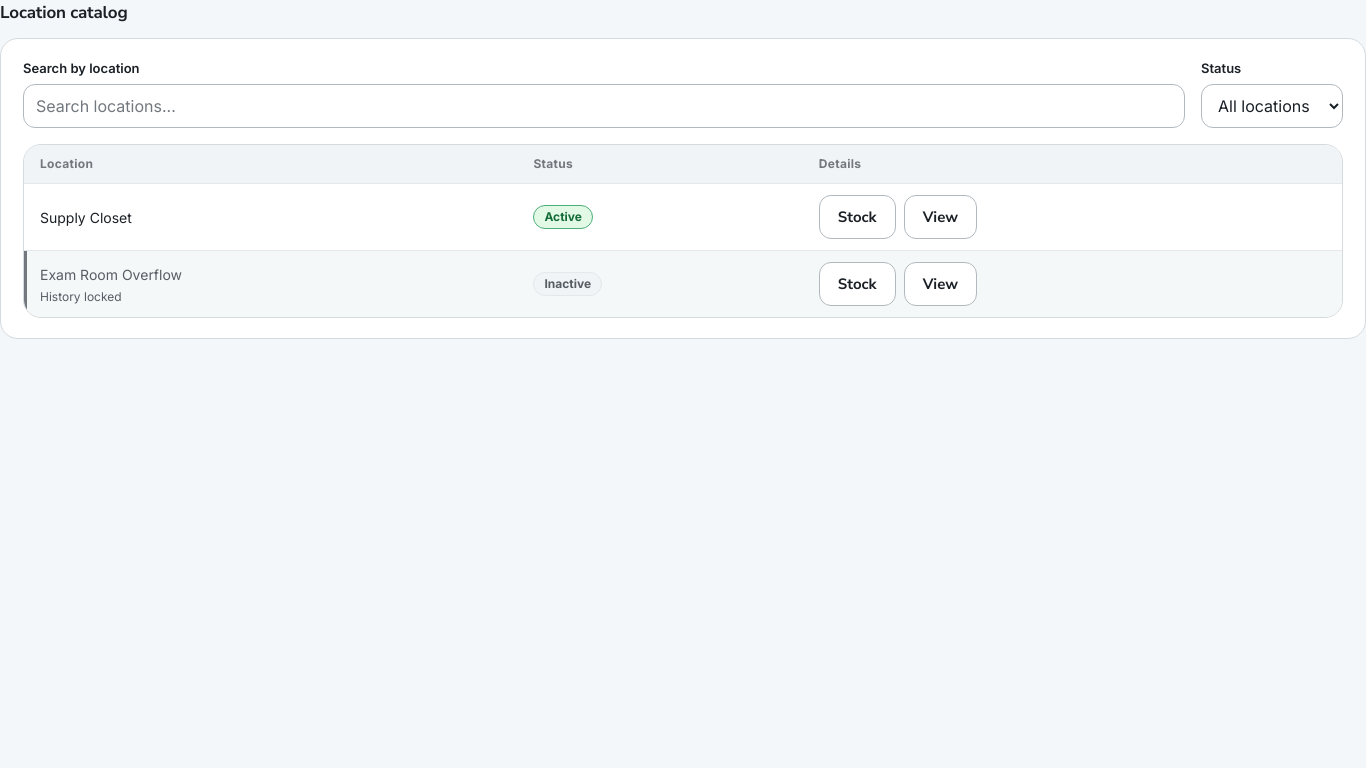
Test case: locations catalog interaction › opens view-only mode when a non-manager clicks a row
This screenshot has width=1366, height=768.
Click the text "Supply Closet": (86, 217) [40,208,132,226]
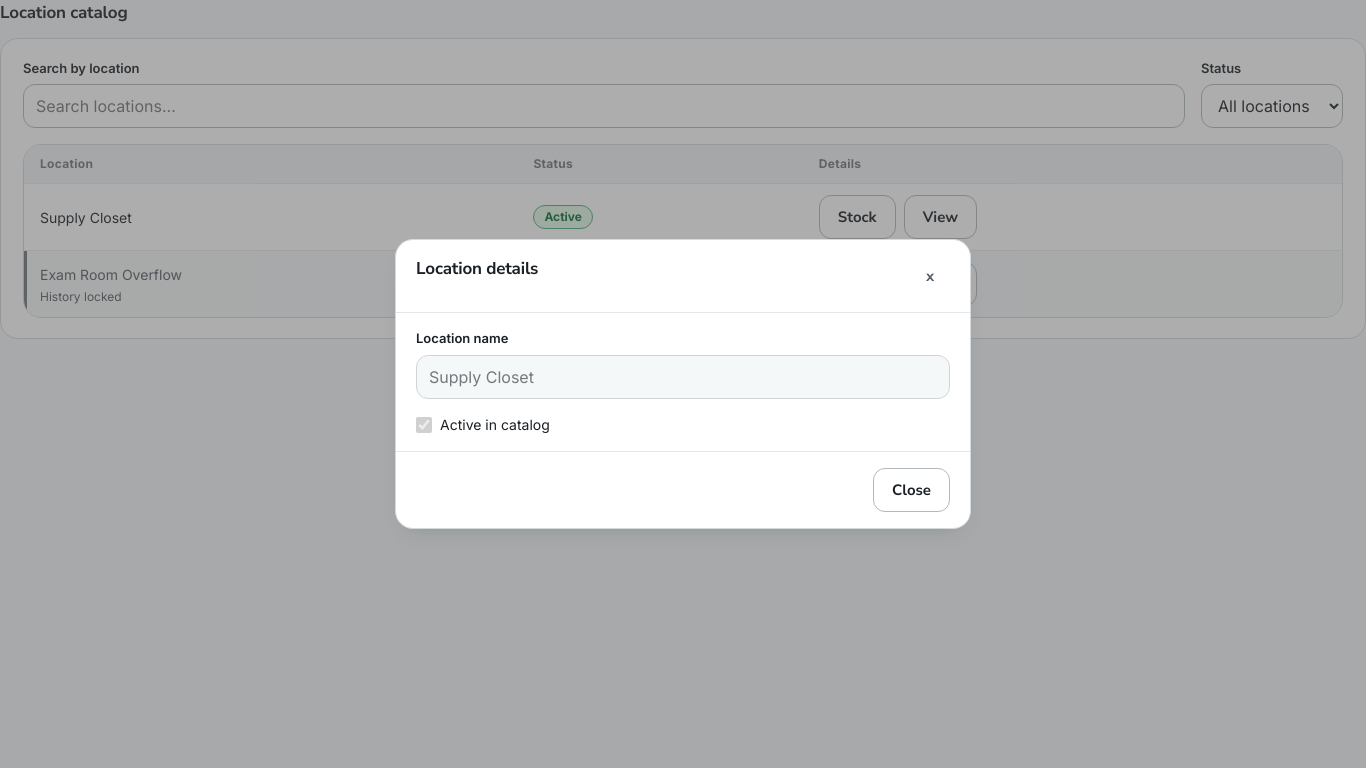
Check: the heading "Location details" is shown, box [416,256,538,282]
Check: the button "Close" is shown, box [873,468,950,512]
